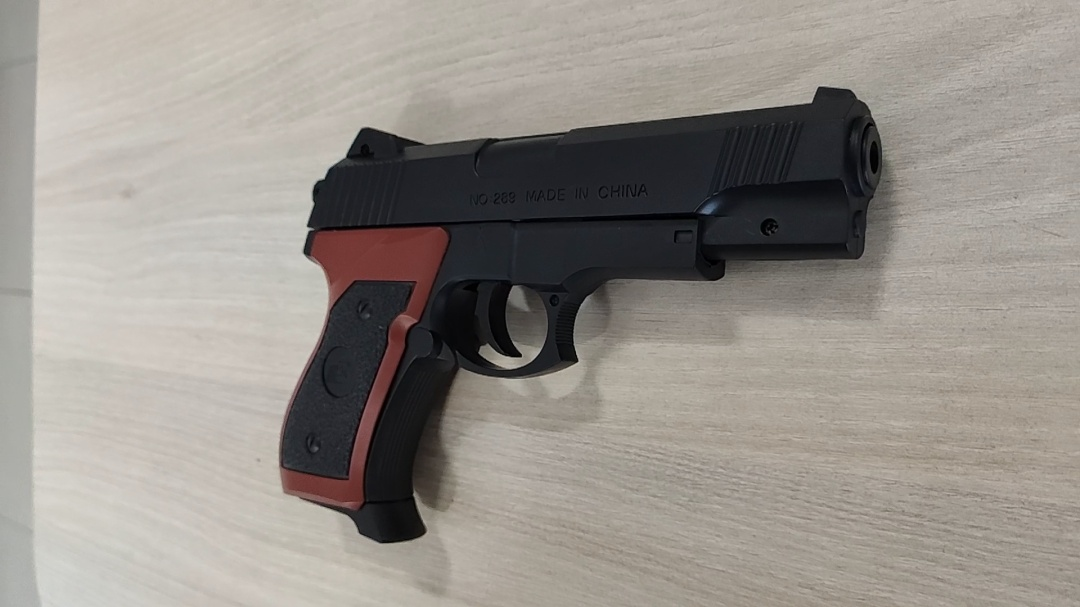gun: (274, 85, 888, 546)
